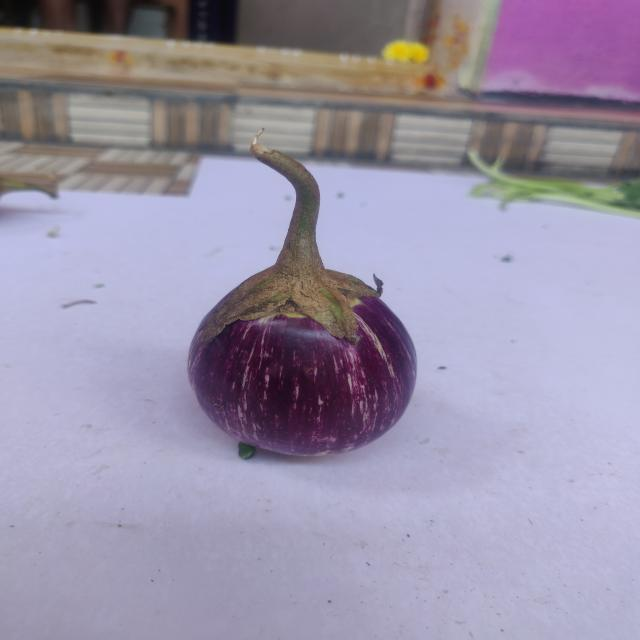Eggplant: (171, 114, 414, 480)
